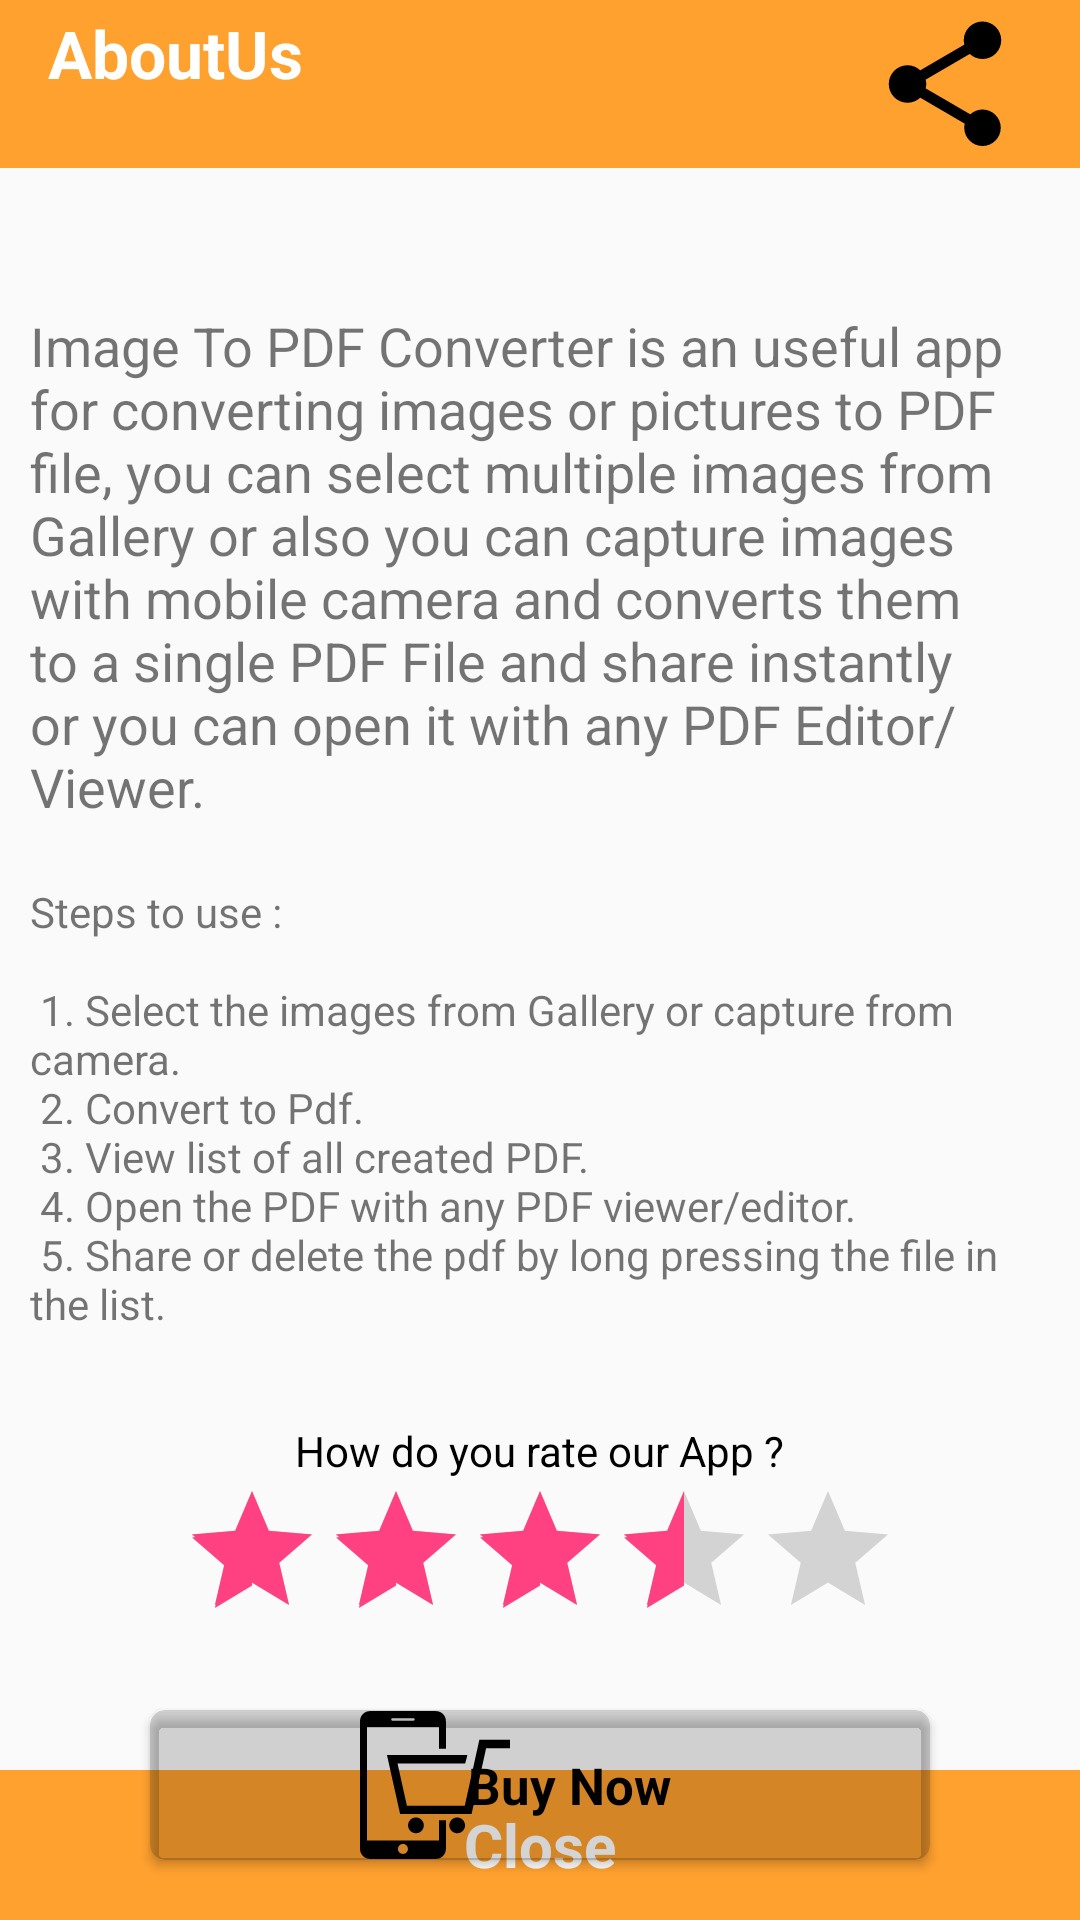

Icon click points for this 1080px×1920px phone screenshot, format (x=x, y=y):
share: (x=945, y=83)
